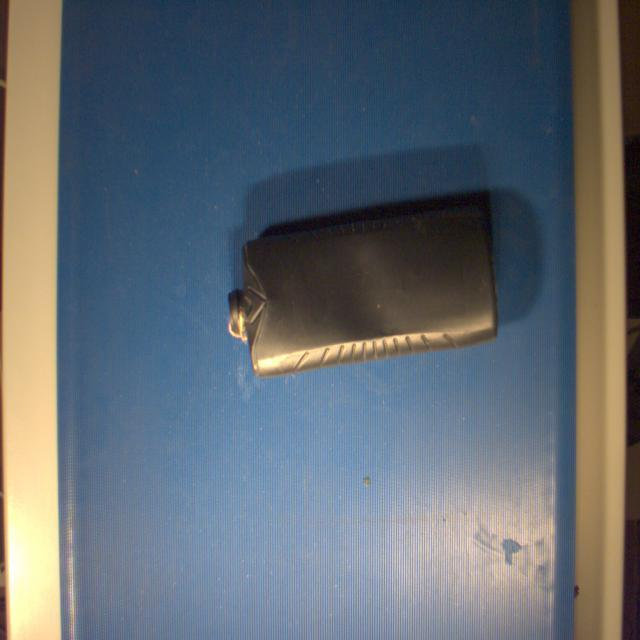HDPE Plastic: (226, 186, 506, 380)
